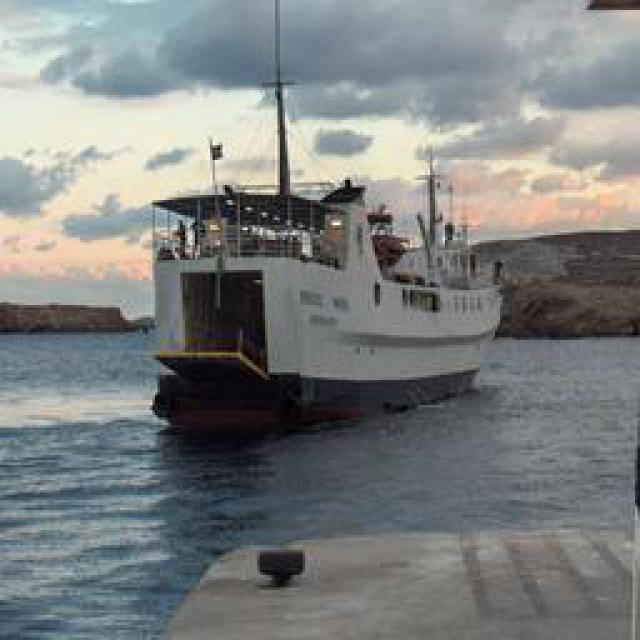Ship: (156, 136, 491, 424)
